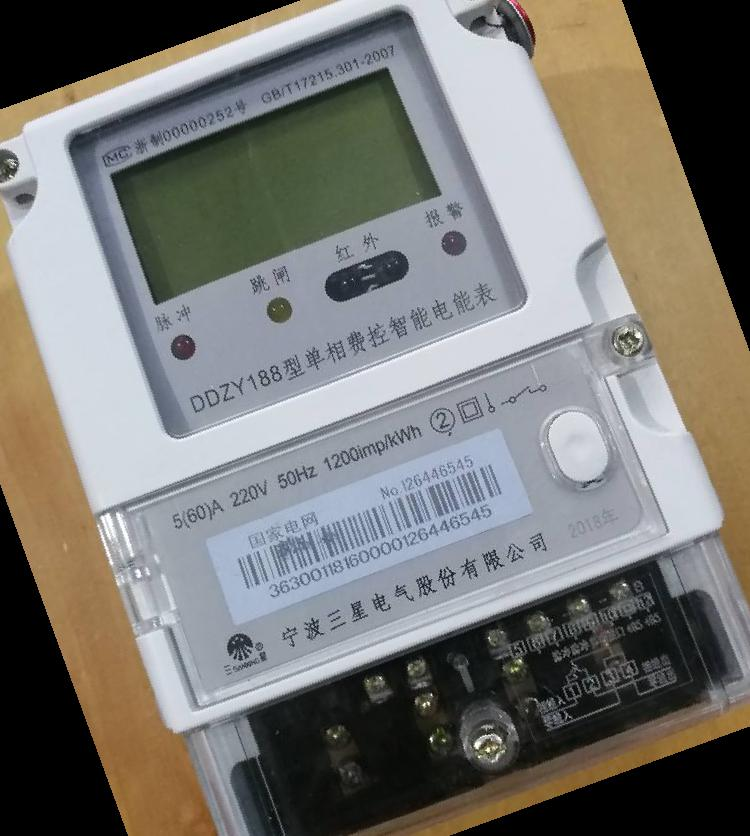digital: (1, 1, 722, 735)
